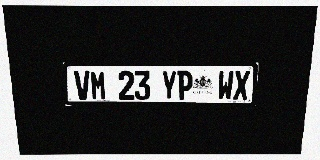2: (118, 71, 134, 100)
3: (134, 71, 150, 100)
M: (90, 71, 107, 100)
P: (177, 71, 193, 100)
V: (74, 71, 91, 100)
W: (217, 71, 234, 100)
X: (233, 71, 250, 100)
Y: (161, 71, 177, 100)
